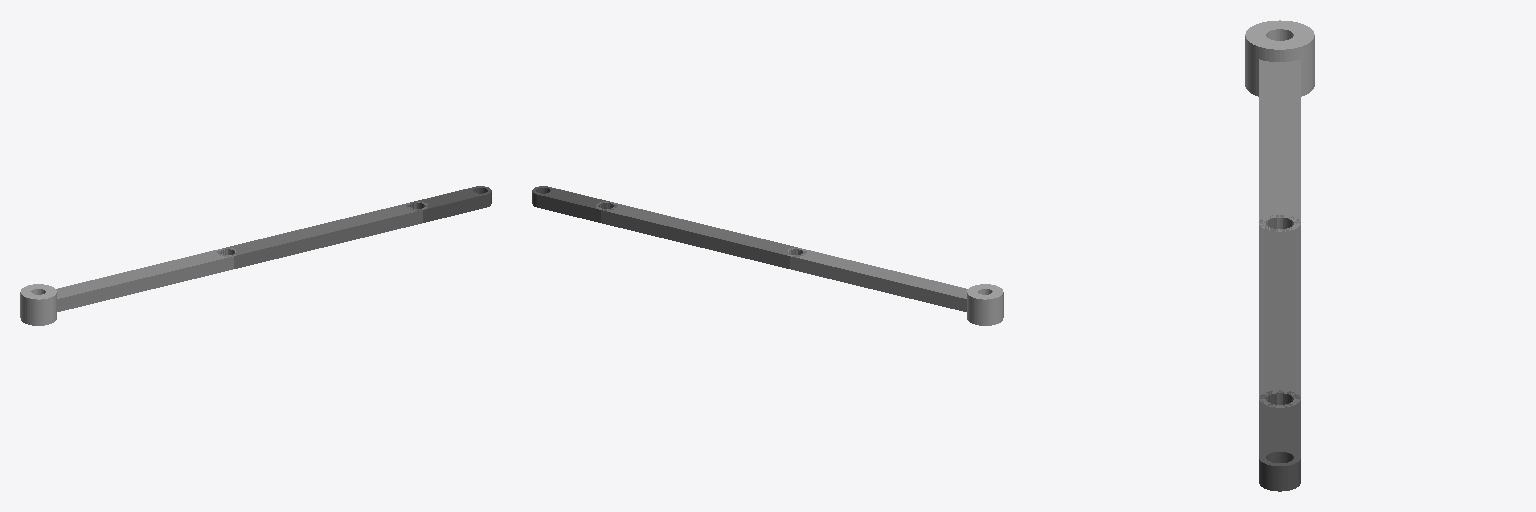
robot.urdf — planar_arm:
<?xml version="1.0"?>
<robot name="planar_arm">

  <link name="world" />

  <joint name="world_to_base" type="fixed">
    <parent link="world"/>
    <child link="link_1"/>
    <origin xyz="0 0 0" rpy="0 0 0" />
  </joint>

  <link name="link_1">
    <inertial>
      <origin xyz="0.0 0.0 20.0e-3" rpy="0 0 0" />
      <mass value="0.04401511" />
      <inertia ixx="13.84642e-6" ixy="0.0e-6"  ixz="0.0e-6"
                          iyy="13.84642e-6" iyz="-0.3556e-6"
                                     izz="15.95548e-6" />
    </inertial>
    <visual>
      <origin xyz="0 0 0" rpy="0 0 0" />
      <geometry>
        <mesh filename="./meshes/link_1.obj" />
      </geometry>
      <material name="grey_1">
        <color rgba="0.7 0.7 0.7 1.0" />
      </material>
    </visual>
    <collision>
      <origin xyz="0 0 0" rpy="0 0 0" />
      <geometry>
        <mesh filename="./meshes/link_1.obj"  />
      </geometry>
    </collision>
  </link>

  <joint name="joint_1" type="revolute">
    <parent link="link_1"/>
    <child link="link_2"/>
    <origin xyz="0.0 0.0 20.0e-3" rpy="0.0 0.0 0.0" />
    <axis xyz="0 0 1" />
    <!-- +/-3.106686 rad is +/-178 degrees -->
    <limit lower="-3.106686" upper="3.106686" effort="100.0" velocity="10.0" />
    <dynamics damping="0.1" friction="0.0" />
  </joint>

  <link name="link_2">
    <inertial>
      <origin xyz="150.0e-3 0.0e-3 0.0e-3" rpy="0 0 0" />
      <mass value="0.1211375" />
      <inertia ixx="13.36557e-6" ixy="0.0e-6"  ixz="0.0e-6"
                                iyy="946.62321e-6" iyz="0.0e-6"
                                          izz="951.91295e-6" />
    </inertial>
    <visual>
      <origin xyz="0 0 0" rpy="0 0 0" />
      <geometry>
        <mesh filename="./meshes/link_2.obj" />
      </geometry>
      <material name="grey_2">
        <color rgba="0.6 0.6 0.6 1.0" />
      </material>
    </visual>
    <collision>
      <origin xyz="0 0 0" rpy="0 0 0" />
      <geometry>
        <mesh filename="./meshes/link_2.obj" />
      </geometry>
    </collision>
  </link>

  <joint name="joint_2" type="revolute">
    <parent link="link_2"/>
    <child link="link_3"/>
    <origin xyz="300.0e-3 0.0 0.0" rpy="0.0 0.0 0.0" />
    <axis xyz="0 0 1" />
    <limit lower="-3.106686" upper="3.106686" effort="100.0" velocity="10.0" />
    <dynamics damping="0.1" friction="0.0" />
  </joint>

  <link name="link_3">
    <inertial>
      <origin xyz="150.0e-3 0.0e-3 0.0e-3" rpy="0 0 0" />
      <mass value="0.1211375" />
      <inertia ixx="13.36557e-6" ixy="0.0e-6"  ixz="0.0e-6"
                                iyy="946.62321e-6" iyz="0.0e-6"
                                          izz="951.91295e-6" />
    </inertial>
    <visual>
      <origin xyz="0 0 0" rpy="0 0 0" />
      <geometry>
        <mesh filename="./meshes/link_3.obj" />
      </geometry>
      <material name="grey_3">
        <color rgba="0.5 0.5 0.5 1.0" />
      </material>
    </visual>
    <collision>
      <origin xyz="0 0 0" rpy="0 0 0" />
      <geometry>
        <mesh filename="./meshes/link_3.obj" />
      </geometry>
    </collision>
  </link>

  <joint name="joint_3" type="revolute">
    <parent link="link_3"/>
    <child link="link_4"/>
    <origin xyz="300.0e-3 0.0 0.0" rpy="0.0 0.0 0.0" />
    <axis xyz="0 0 1" />
    <limit lower="-3.106686" upper="3.106686" effort="100.0" velocity="10.0" />
    <dynamics damping="0.0" friction="0.0" />
  </joint>

  <!-- The last link -->
  <link name="link_4">
    <inertial>
      <origin xyz="50.0e-3 0.0e-3 0.0e-3" rpy="0 0 0" />
      <mass value="0.04107782" />
      <inertia ixx="4.69244e-6" ixy="0.0e-6"  ixz="0.0e-6"
                                iyy="43.67283e-6" iyz="0.0e-6"
                                          izz="45.62675e-6" />
    </inertial>
    <visual>
      <origin xyz="0 0 0" rpy="0 0 0" />
      <geometry>
        <mesh filename="./meshes/link_4.obj" />
      </geometry>
      <material name="grey_4">
        <color rgba="0.4 0.4 0.4 1.0" />
      </material>
    </visual>
    <collision>
      <origin xyz="0 0 0" rpy="0 0 0" />
      <geometry>
        <mesh filename="./meshes/link_4.obj" />
      </geometry>
    </collision>
  </link>

  <!-- Dummy end effector link, basically on the sphere of the last link -->
  <link name="end_effector">
    <!-- Can be empty or have minimal visual marker -->
  </link>

  <!-- Fixed joint connecting link_4 to end effector -->
  <joint name="link_4_to_ee" type="fixed">
    <parent link="link_4"/>
    <child link="end_effector"/>
    <origin xyz="100.0e-3 0.0 0.0" rpy="0 0 0"/> 
  </joint>

</robot>

--- Render facts (derived) ---
The picture shows the robot from 3 angles, left to right: view 1: azimuth 30°, elevation 25°; view 2: azimuth 150°, elevation 25°; view 3: azimuth 270°, elevation 25°; orthographic projection.
Robot: planar_arm — 6 links, 5 joints (3 revolute, 2 fixed); root link world; default pose: every joint at zero.
Links seen in each view (by area): view 1: link_3, link_2, link_4, link_1; view 2: link_3, link_2, link_4, link_1; view 3: link_3, link_2, link_4, link_1.
Link boxes in pixels (bbox=[...]): link_3: bbox=[217, 201, 427, 268]; link_2: bbox=[56, 248, 235, 311]; link_4: bbox=[407, 186, 491, 222]; link_1: bbox=[20, 284, 56, 325]; link_3: bbox=[596, 201, 806, 268]; link_2: bbox=[788, 248, 967, 311]; link_4: bbox=[532, 186, 616, 222]; link_1: bbox=[967, 284, 1003, 325]; link_3: bbox=[1259, 215, 1300, 407]; link_2: bbox=[1259, 59, 1300, 231]; link_4: bbox=[1259, 390, 1300, 491]; link_1: bbox=[1245, 20, 1314, 96].
Size in the robot's own frame: 0.74 by 0.0499 by 0.04 metres.
4 mesh visuals loaded from 4 distinct referenced files (4 OBJ).
